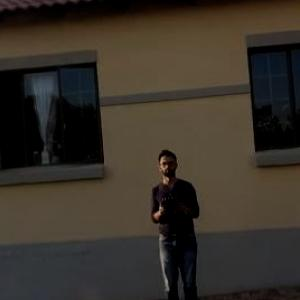follow: (147, 143, 206, 299)
